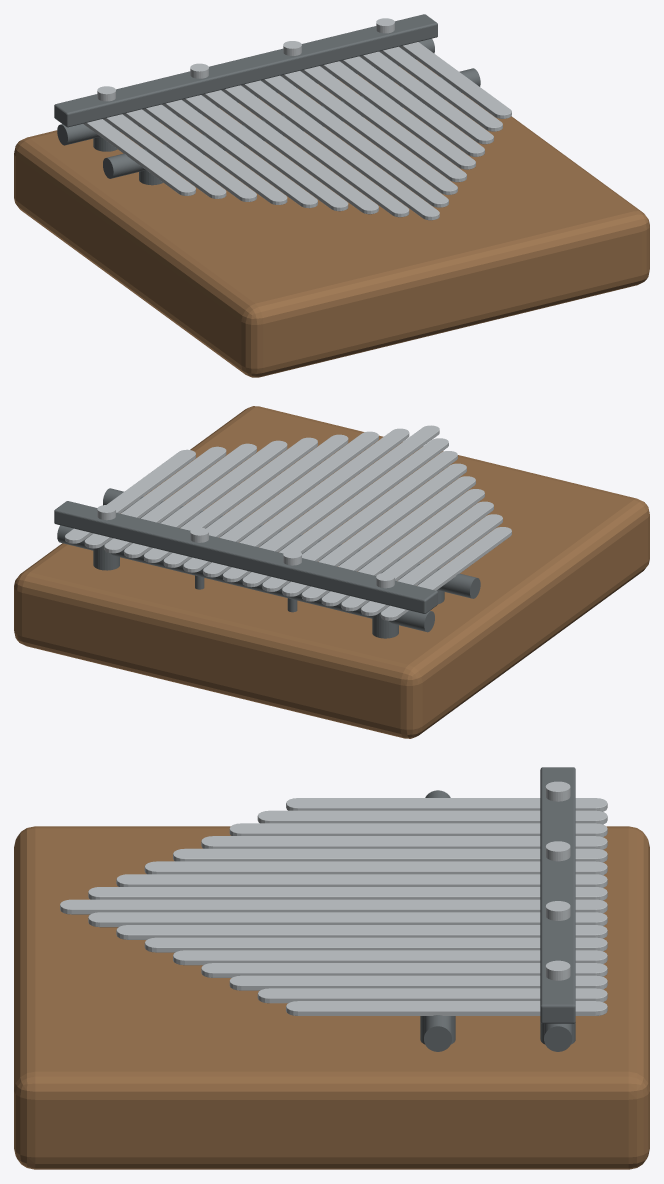
Rendered from full.glb.
The picture shows the model from 3 angles, top to bottom: view 1: azimuth 30°, elevation 25°; view 2: azimuth 150°, elevation 25°; view 3: azimuth 270°, elevation 25°; orthographic projection. The views are drawn at different scales.
Visible parts, largest first — view 1: Solid rounded wood board, Upper transverse clamping bar, Rounded spring tine 9, Rounded spring tine 8, Rounded spring tine 10, Rounded spring tine 7, Rounded spring tine 11, Rounded spring tine 6, Rounded spring tine 12, Rounded spring tine 13, Rounded spring tine 5, Rounded spring tine 4 (+9 smaller); view 2: Solid rounded wood board, Upper transverse clamping bar, Rounded spring tine 9, Rounded spring tine 10, Rounded spring tine 8, Rounded spring tine 11, Rounded spring tine 7, Rounded spring tine 6, Rounded spring tine 12, Rounded spring tine 5, Rounded spring tine 13, Rounded spring tine 14 (+11 smaller); view 3: Solid rounded wood board, Upper transverse clamping bar, Rounded spring tine 9, Rounded spring tine 10, Rounded spring tine 8, Rounded spring tine 12, Rounded spring tine 11, Rounded spring tine 6, Rounded spring tine 7, Rounded spring tine 5, Rounded spring tine 13, Rounded spring tine 14 (+9 smaller).
Boxes of the visible parts, x1=… form: Solid rounded wood board: x1=14, y1=59, x2=649, y2=377; Upper transverse clamping bar: x1=54, y1=14, x2=437, y2=127; Rounded spring tine 9: x1=241, y1=80, x2=439, y2=220; Rounded spring tine 8: x1=221, y1=85, x2=409, y2=217; Rounded spring tine 10: x1=261, y1=75, x2=448, y2=207; Rounded spring tine 7: x1=202, y1=90, x2=378, y2=214; Rounded spring tine 11: x1=280, y1=71, x2=457, y2=194; Rounded spring tine 6: x1=182, y1=95, x2=348, y2=211; Rounded spring tine 12: x1=300, y1=66, x2=466, y2=182; Rounded spring tine 13: x1=320, y1=61, x2=475, y2=169; Rounded spring tine 5: x1=162, y1=100, x2=317, y2=208; Rounded spring tine 4: x1=142, y1=104, x2=287, y2=204; Solid rounded wood board: x1=14, y1=406, x2=649, y2=738; Upper transverse clamping bar: x1=54, y1=501, x2=437, y2=613; Rounded spring tine 9: x1=223, y1=425, x2=439, y2=582; Rounded spring tine 10: x1=203, y1=428, x2=409, y2=577; Rounded spring tine 8: x1=242, y1=438, x2=448, y2=587; Rounded spring tine 11: x1=183, y1=431, x2=378, y2=572; Rounded spring tine 7: x1=262, y1=451, x2=457, y2=591; Rounded spring tine 6: x1=282, y1=463, x2=466, y2=596; Rounded spring tine 12: x1=163, y1=434, x2=348, y2=567; Rounded spring tine 5: x1=301, y1=476, x2=475, y2=601; Rounded spring tine 13: x1=144, y1=437, x2=317, y2=562; Rounded spring tine 14: x1=124, y1=440, x2=287, y2=558; Solid rounded wood board: x1=14, y1=826, x2=649, y2=1169; Upper transverse clamping bar: x1=540, y1=767, x2=575, y2=1023; Rounded spring tine 9: x1=60, y1=899, x2=607, y2=914; Rounded spring tine 10: x1=88, y1=912, x2=607, y2=927; Rounded spring tine 8: x1=88, y1=887, x2=607, y2=900; Rounded spring tine 12: x1=144, y1=937, x2=607, y2=952; Rounded spring tine 11: x1=116, y1=925, x2=607, y2=939; Rounded spring tine 6: x1=144, y1=861, x2=607, y2=875; Rounded spring tine 7: x1=116, y1=874, x2=607, y2=887; Rounded spring tine 5: x1=173, y1=848, x2=607, y2=862; Rounded spring tine 13: x1=173, y1=950, x2=607, y2=965; Rounded spring tine 14: x1=201, y1=963, x2=607, y2=977.
Size of the model in its own units: 0.175 by 0.053 by 0.18.
